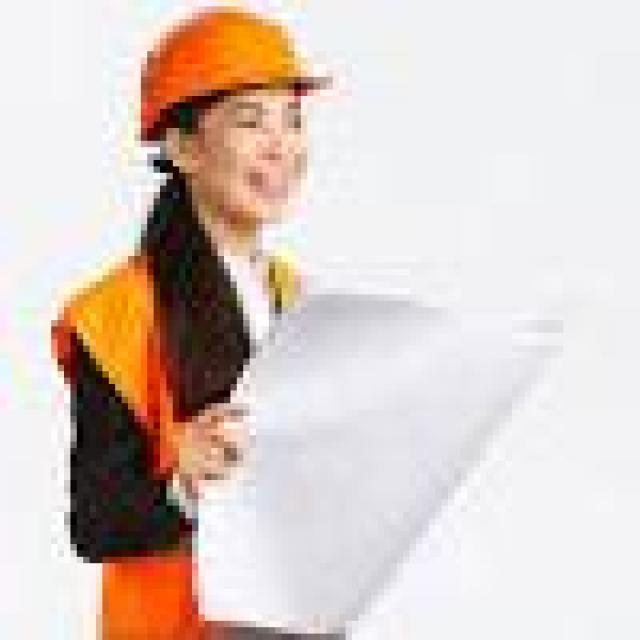reflective_jacket: (6, 230, 217, 639)
safety_helmet: (121, 0, 332, 141)
